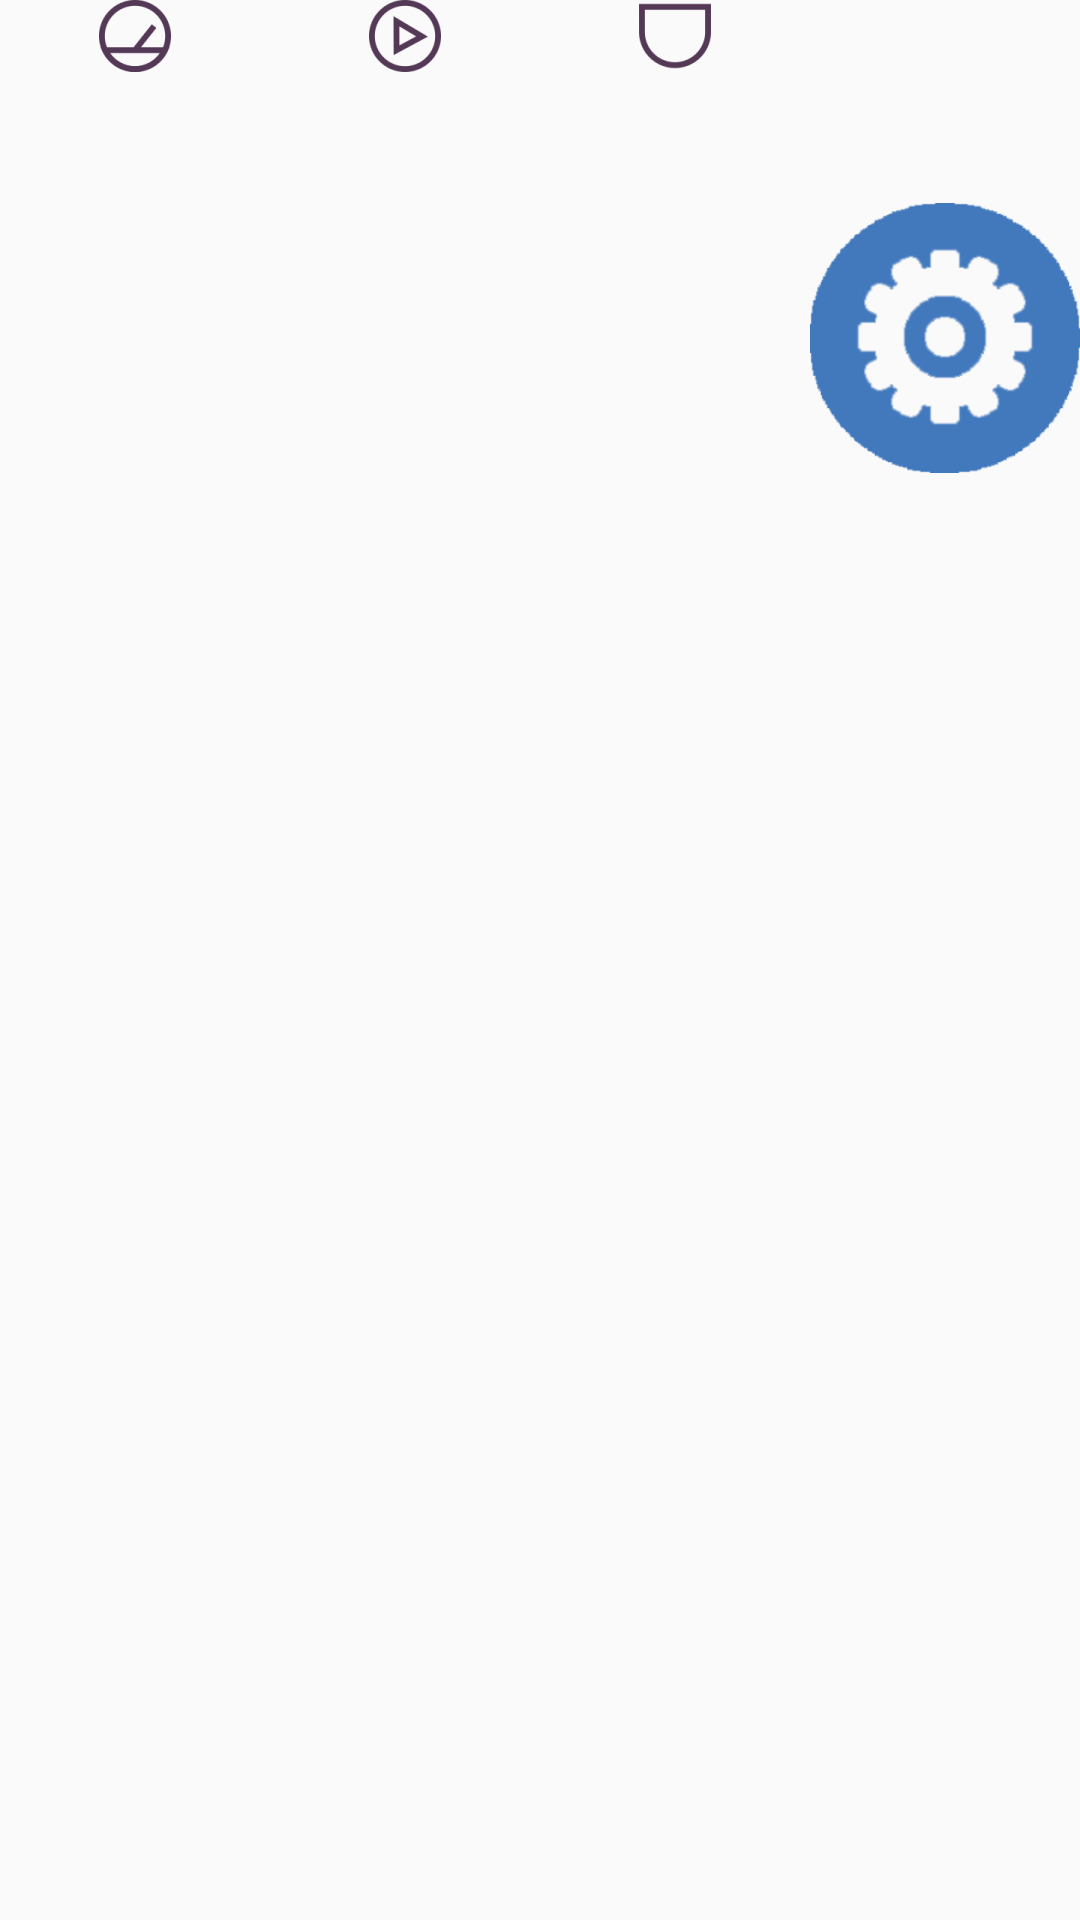

Icon click points for this 1080 x 1920 phone screenshot, format [x,y]:
dash: [135,36]
setting: [945,338]
